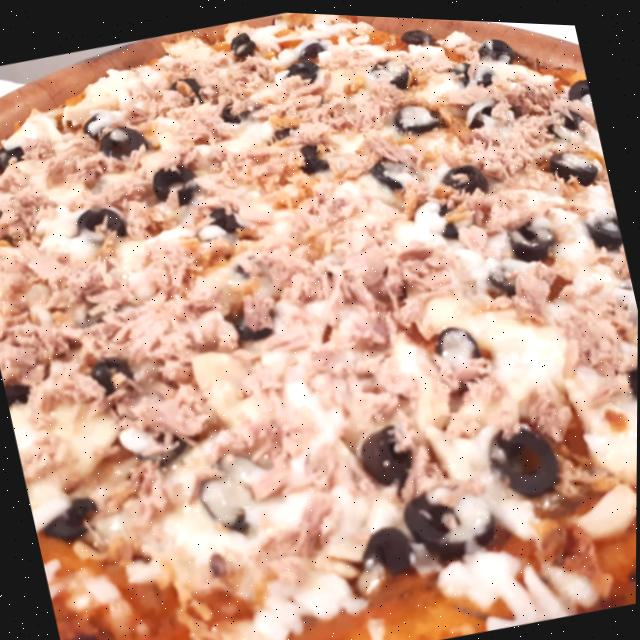black_olives: (392, 466, 509, 565), (480, 408, 573, 505), (347, 504, 423, 583), (354, 412, 425, 491), (29, 484, 107, 551), (78, 341, 145, 407), (425, 309, 490, 372), (195, 468, 253, 537), (142, 153, 208, 212), (72, 194, 132, 249), (224, 289, 282, 345), (545, 128, 601, 185), (505, 204, 560, 262), (386, 87, 449, 137), (359, 139, 415, 195), (463, 81, 524, 132), (90, 118, 153, 166), (428, 148, 491, 196), (278, 31, 330, 88), (467, 17, 521, 70), (190, 193, 245, 245), (579, 185, 624, 247), (0, 362, 40, 429), (446, 41, 498, 92), (156, 65, 211, 110), (418, 187, 463, 242), (366, 42, 416, 91), (479, 247, 522, 301), (284, 132, 333, 179), (539, 94, 589, 138), (561, 59, 596, 118), (214, 89, 262, 127), (391, 15, 436, 50), (224, 23, 261, 62), (616, 329, 638, 392), (0, 136, 32, 178), (79, 107, 108, 142), (0, 199, 11, 246)
pizza: (0, 0, 640, 640)
